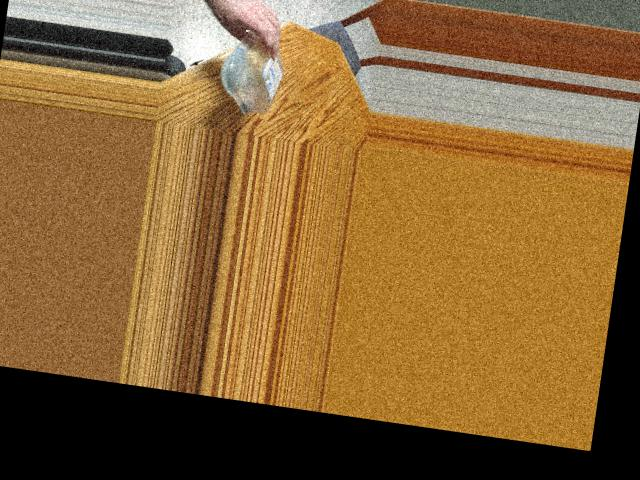cheese: (224, 15, 288, 113)
